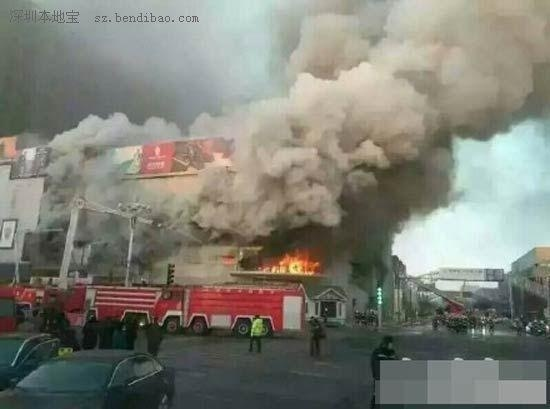fire: (260, 247, 321, 274)
